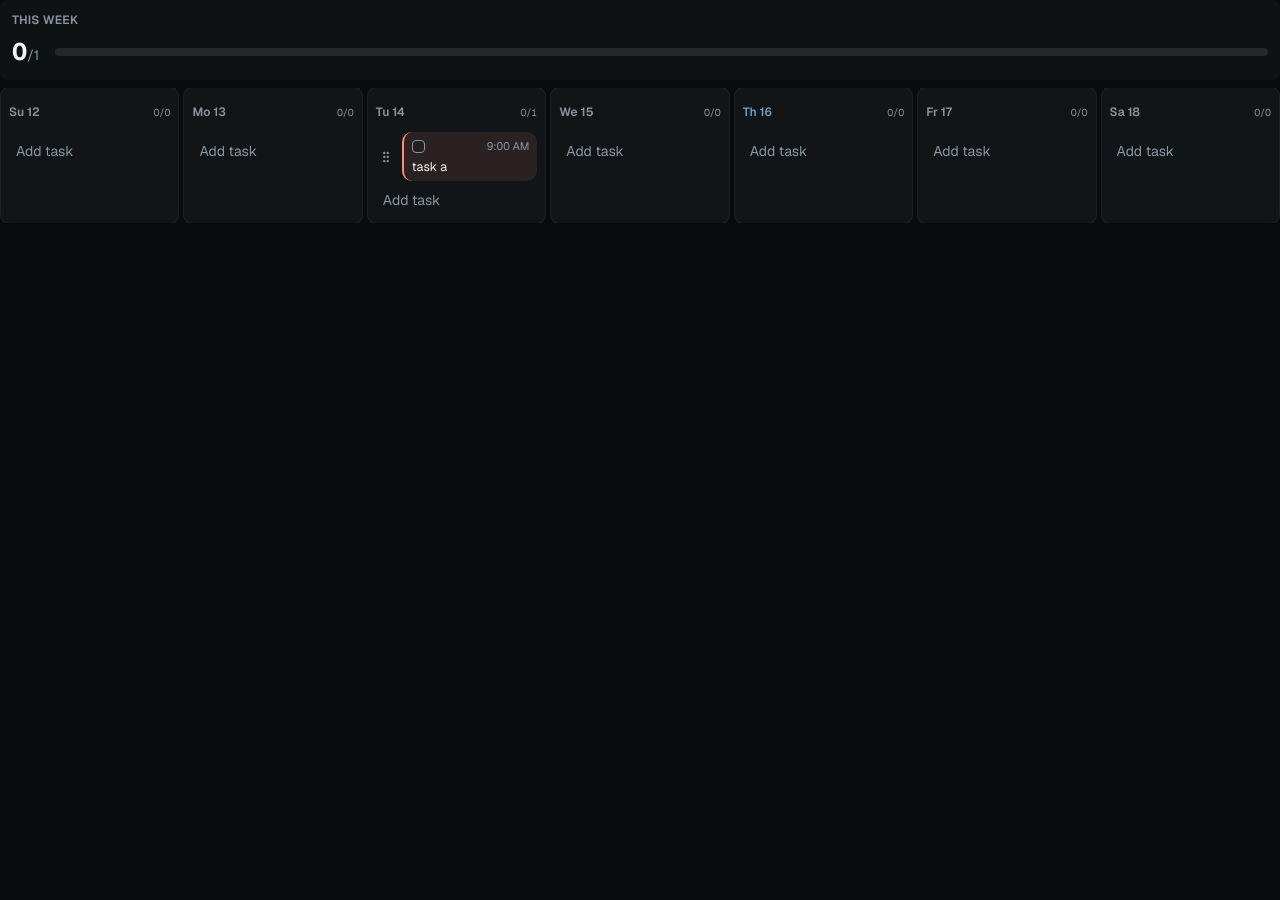
Test case: WeeklyView › opens the detail drawer from anywhere on the card, not just the title
Step 1. Click the text "9:00 AM" → (508, 146), box [487,138,529,154]
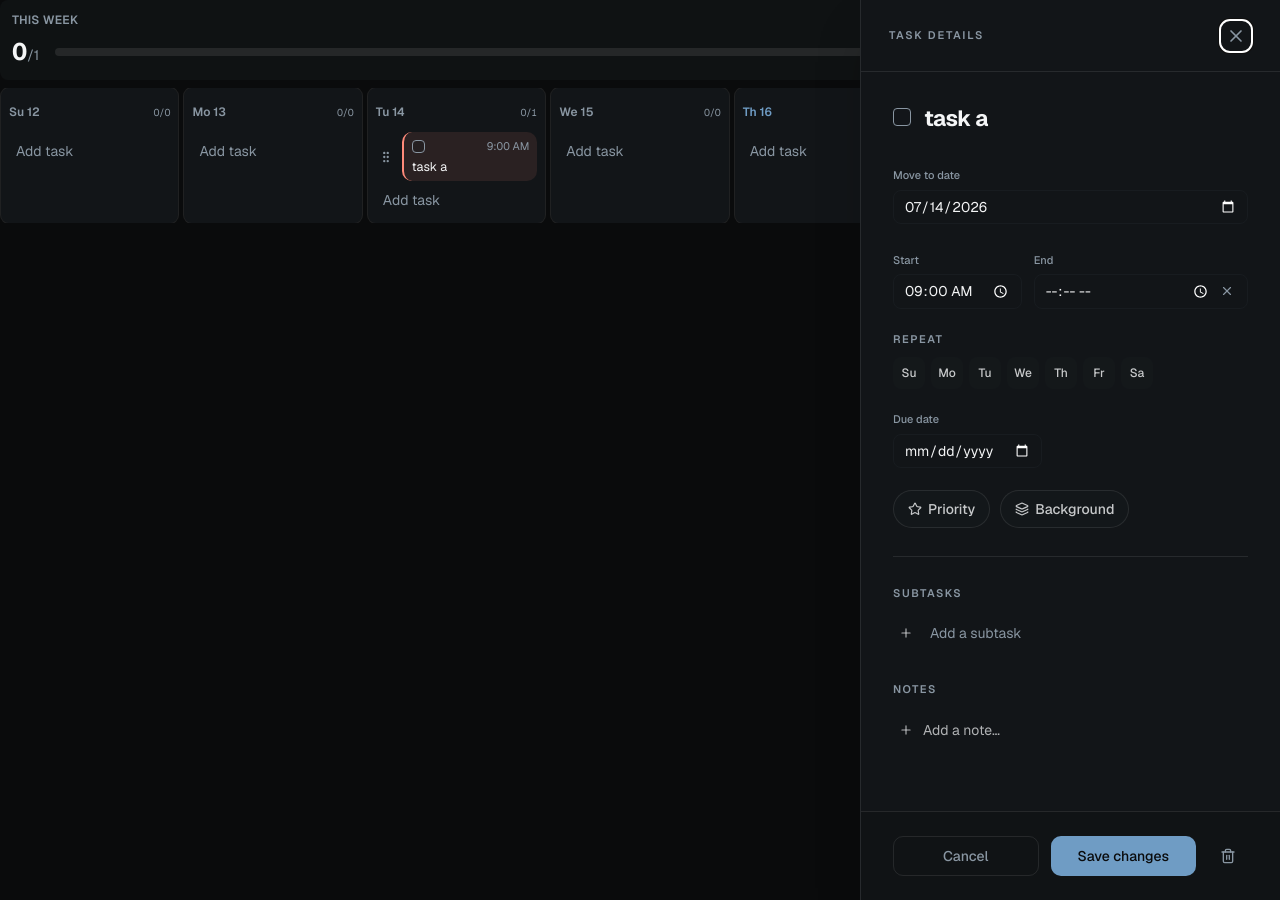
Result: the button named "Close details" is shown at [1220,20,1252,52]
